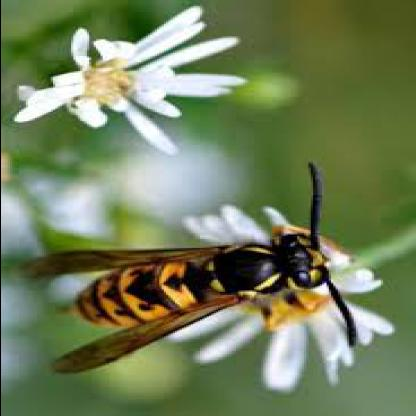european: (38, 156, 346, 395)
